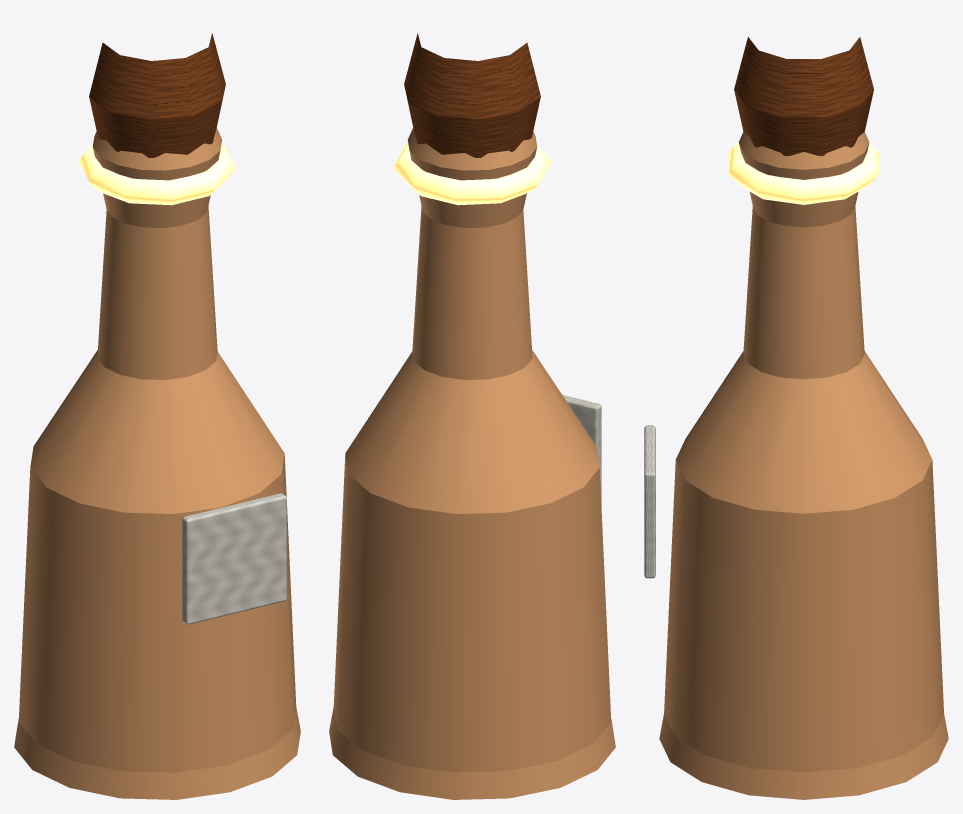
The model's file is witch-cottage-and-apothecary-potion-bottle-conical-cop-ace2e9e8__32476.glb.
3 renders of one model, left to right at view 1: azimuth 30°, elevation 25°; view 2: azimuth 150°, elevation 25°; view 3: azimuth 270°, elevation 25°, orthographic.
Parts seen in each view (by area): view 1: potion-bottle-conical-copper; view 2: potion-bottle-conical-copper; view 3: potion-bottle-conical-copper.
Part boxes in pixels (box(x1,y1,x2,y2)): potion-bottle-conical-copper: box(14, 33, 300, 799); potion-bottle-conical-copper: box(329, 33, 615, 799); potion-bottle-conical-copper: box(644, 37, 948, 799).
Size of the model in its own units: 0.124 by 0.34 by 0.1305.
4 materials, 2 textured.
